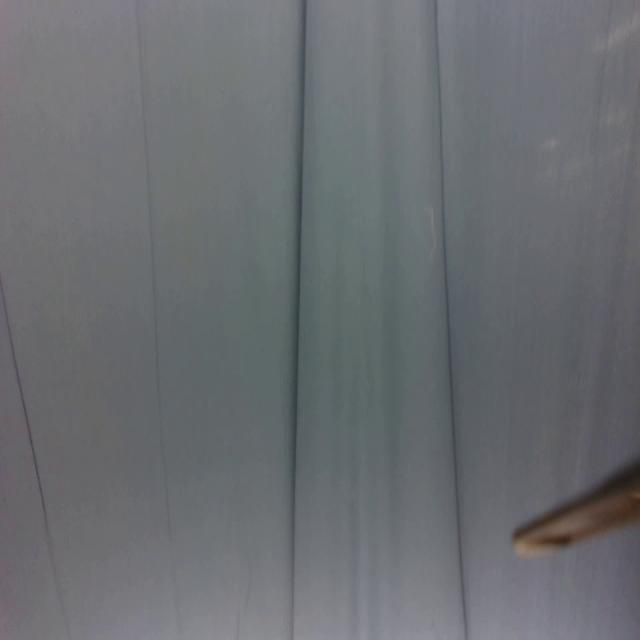crease: (136, 0, 180, 637), (0, 278, 70, 636), (434, 0, 469, 640), (289, 0, 311, 640), (594, 2, 614, 137)
